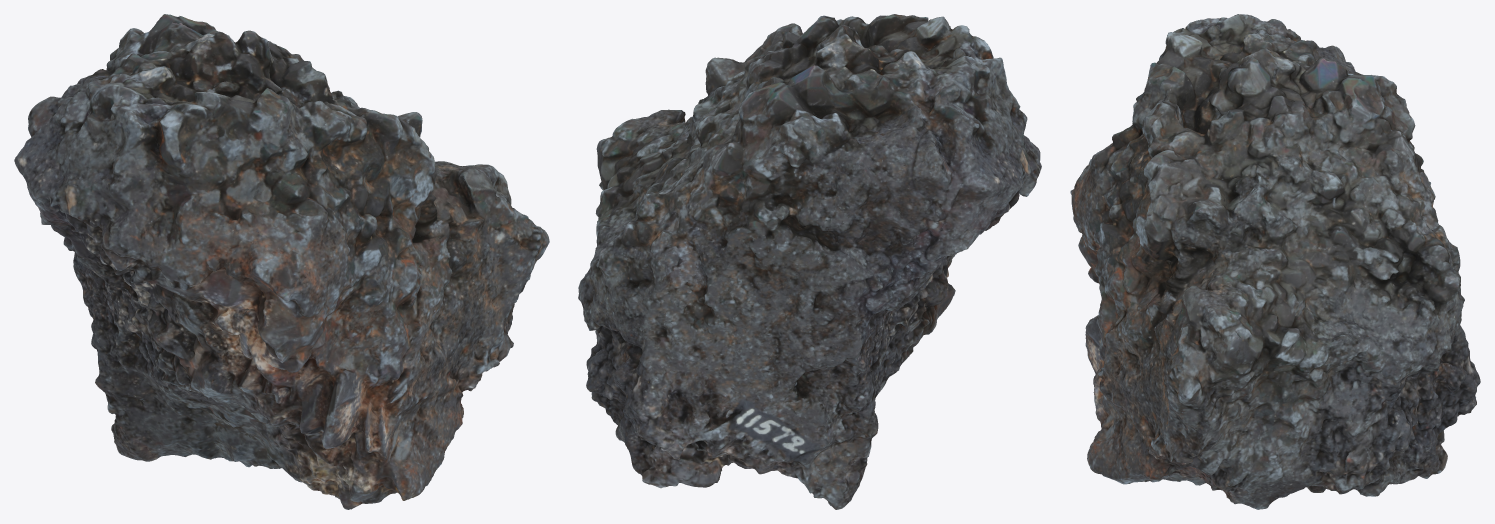
File: gematite.glb
3 views of the same model, side by side, from view 1: azimuth 30°, elevation 25°; view 2: azimuth 150°, elevation 25°; view 3: azimuth 270°, elevation 25° (orthographic). The views are drawn at different scales.
Parts seen in each view (by area): view 1: Object_2, Object_3, Object_4; view 2: Object_2, Object_3, Object_4; view 3: Object_3, Object_2, Object_4.
Boxes of the visible parts, x1,y1,x2,y2 form: Object_2: (14, 14, 549, 509); Object_3: (32, 14, 488, 486); Object_4: (173, 30, 458, 350); Object_2: (578, 28, 1041, 509); Object_3: (580, 14, 1040, 493); Object_4: (578, 15, 928, 483); Object_3: (1070, 15, 1480, 492); Object_2: (1075, 14, 1470, 509); Object_4: (1073, 47, 1478, 496).
Size of the model in its own units: 0.2574 by 0.2355 by 0.2164.
1 material, 1 textured.
